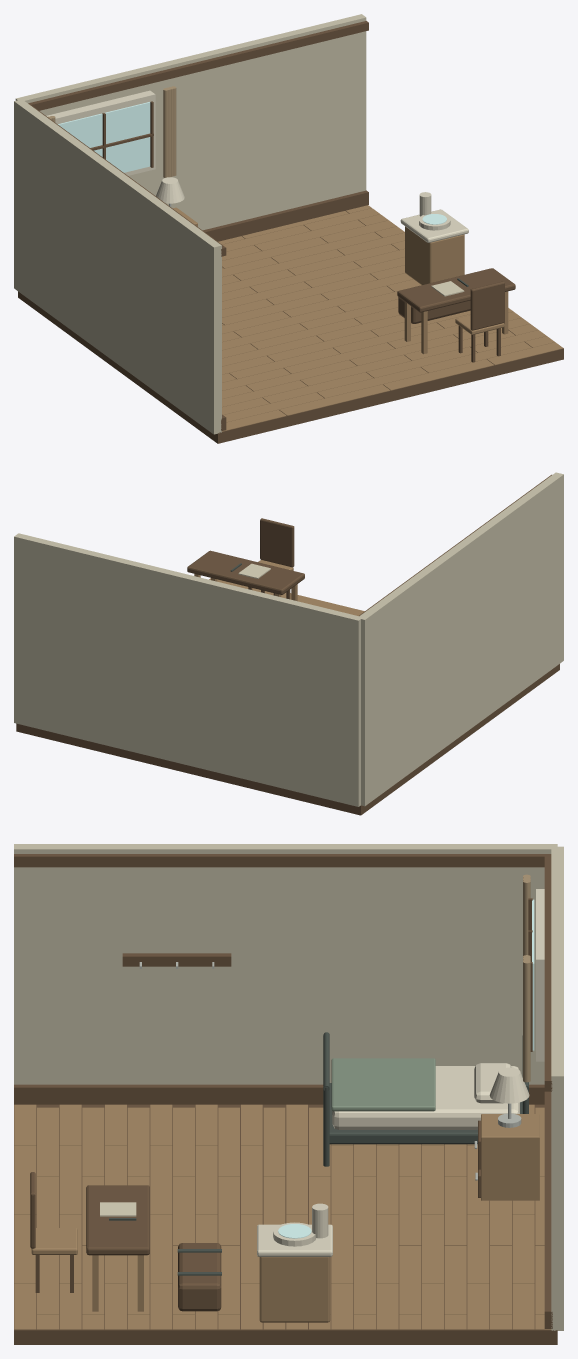
Rendered from interior-lodging-room.glb.
3 renders of one model, top to bottom at view 1: azimuth 30°, elevation 25°; view 2: azimuth 150°, elevation 25°; view 3: azimuth 270°, elevation 25°, orthographic. The views are drawn at different scales.
Visible parts, largest first — view 1: pine floorboard, west plaster, back plaster, room base, back molding, window glazing, mattress, window frame, curtain fold; view 2: back plaster, west plaster, room base, pine floorboard; view 3: west plaster, pine floorboard, room base, west molding, mattress, back plaster, folded blanket, back molding, iron bed frame, window frame, curtain fold.
Boxes of the visible parts, x1,y1,x2,y2 form: pine floorboard: [173, 205, 563, 431]; west plaster: [14, 100, 221, 434]; back plaster: [15, 14, 366, 230]; room base: [18, 220, 563, 443]; back molding: [28, 21, 368, 241]; window glazing: [58, 102, 150, 172]; mattress: [156, 177, 468, 242]; window frame: [46, 90, 155, 175]; curtain fold: [48, 86, 176, 177]; back plaster: [14, 533, 362, 806]; west plaster: [359, 472, 563, 806]; room base: [16, 518, 559, 815]; pine floorboard: [194, 560, 364, 615]; west plaster: [14, 844, 557, 1084]; pine floorboard: [14, 1104, 551, 1329]; room base: [14, 1104, 557, 1344]; west molding: [14, 854, 551, 1104]; mattress: [257, 1063, 529, 1256]; back plaster: [551, 846, 563, 1330]; folded blanket: [331, 1058, 435, 1111]; back molding: [528, 854, 552, 1328]; iron bed frame: [109, 1032, 528, 1275]; window frame: [536, 889, 544, 1061]; curtain fold: [523, 874, 530, 1082].
Bounding box in the file's own units: 6.07 × 3.27 × 6.07.
